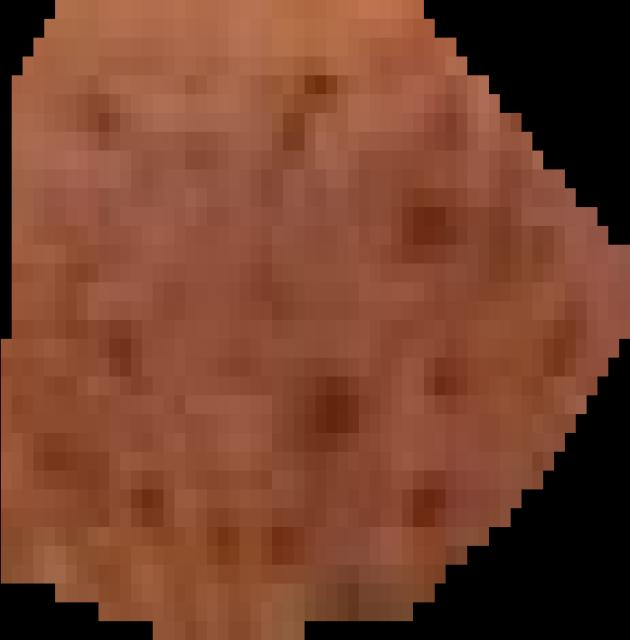Pitting Corrosion: (1, 0, 630, 640)
